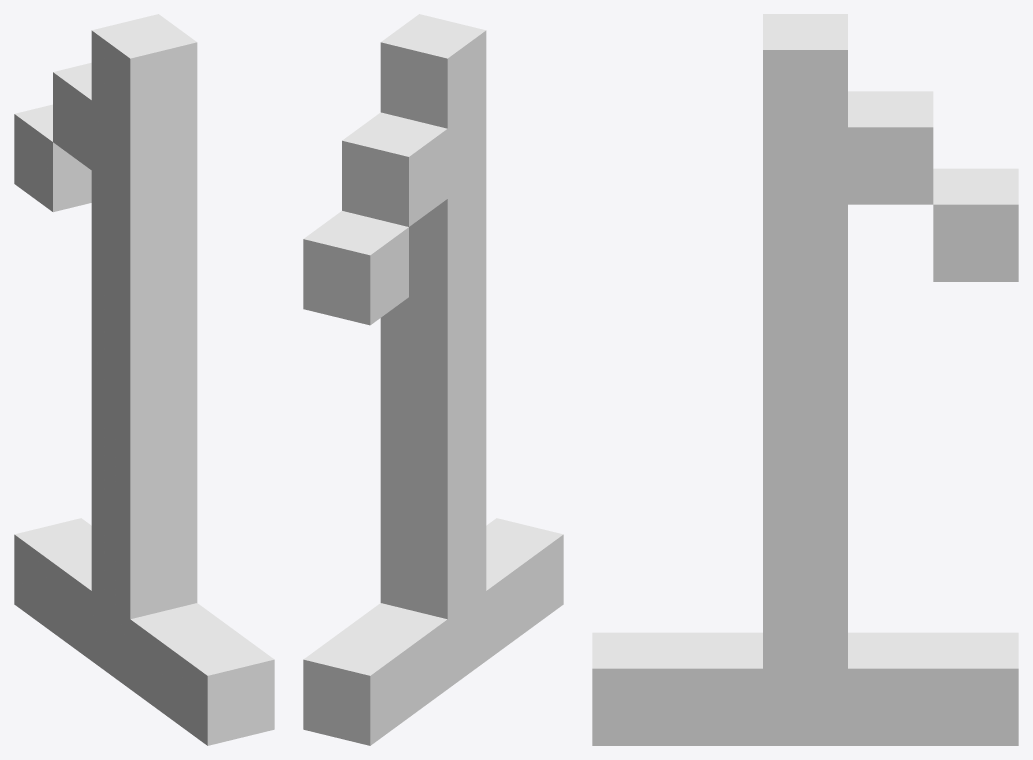
Rendered from dig_1.obj.
3 renders of one model, left to right at view 1: azimuth 30°, elevation 25°; view 2: azimuth 150°, elevation 25°; view 3: azimuth 270°, elevation 25°, orthographic. The views are drawn at different scales.
Bounding box in the file's own units: 0.1 × 0.9 × 0.5.
1 material, 1 textured.
